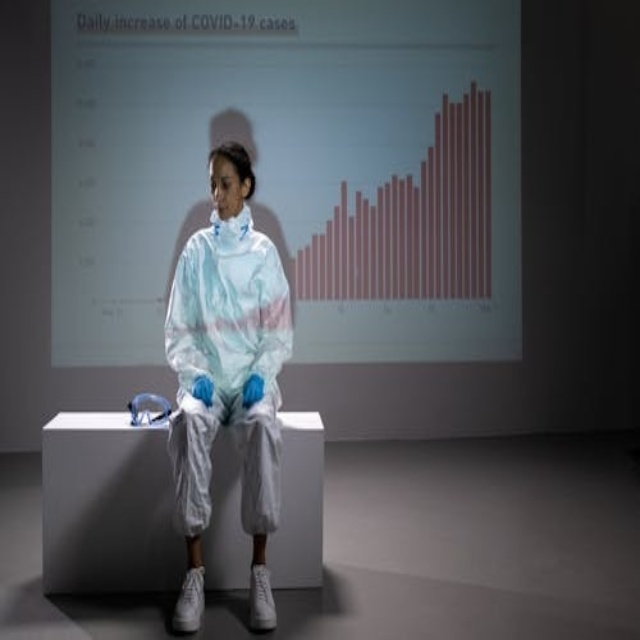Guantes: (242, 374, 265, 409), (192, 375, 215, 407)
Sin_gafas: (209, 177, 240, 193)
Sin_mascara: (211, 195, 237, 219)
